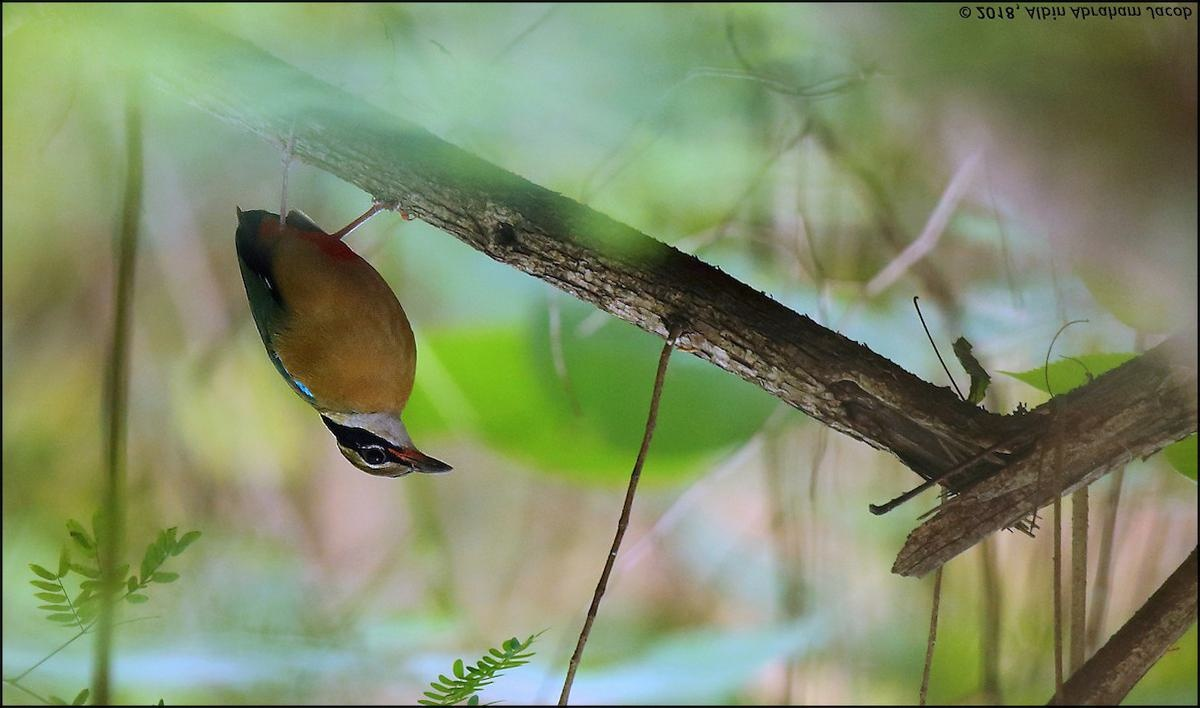pitta: (213, 139, 464, 520)
